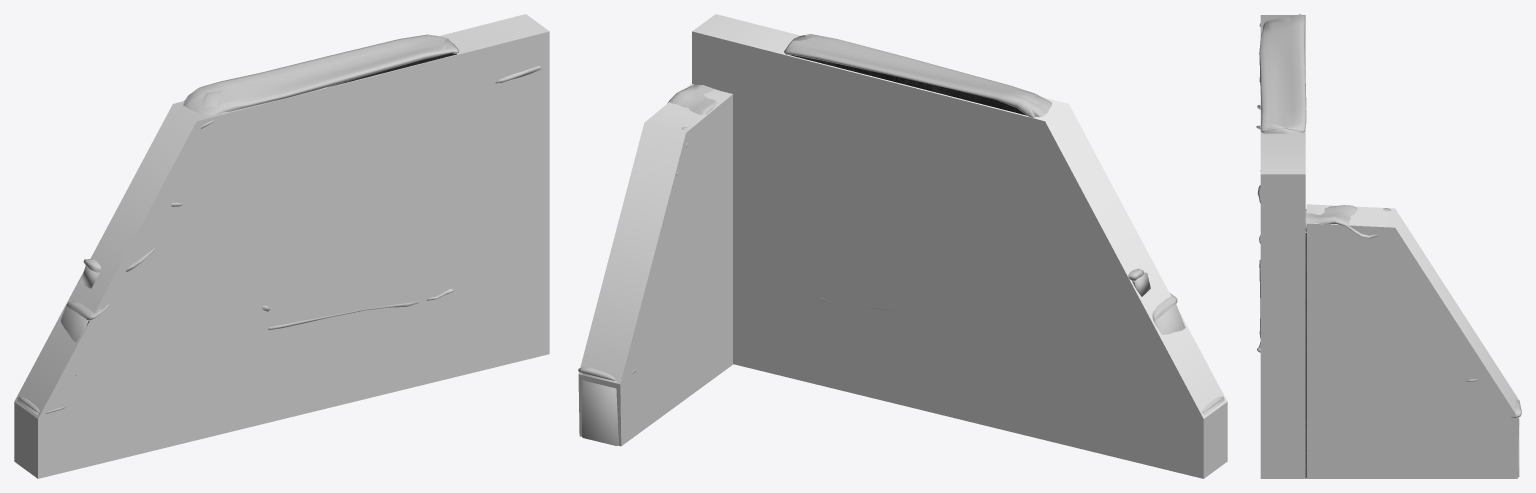
File: Wall-L-Window.fbx
3 renders of one model, left to right at view 1: azimuth 30°, elevation 25°; view 2: azimuth 150°, elevation 25°; view 3: azimuth 270°, elevation 25°, orthographic. The views are drawn at different scales.
Visible parts, largest first — view 1: wall-L-window_col, snow, wall-L-window; view 2: wall-L-window_col, snow, wall-L-window; view 3: wall-L-window_col, snow, wall-L-window.
Boxes of the visible parts, x1=… form: wall-L-window_col: x1=14, y1=14, x2=549, y2=478; snow: x1=18, y1=34, x2=542, y2=413; wall-L-window: x1=17, y1=38, x2=457, y2=415; wall-L-window_col: x1=578, y1=14, x2=1227, y2=478; snow: x1=578, y1=34, x2=1223, y2=413; wall-L-window: x1=582, y1=35, x2=1224, y2=445; wall-L-window_col: x1=1260, y1=15, x2=1519, y2=478; snow: x1=1256, y1=14, x2=1521, y2=417; wall-L-window: x1=1261, y1=17, x2=1519, y2=478.
Bounding box in the file's own units: 225 × 138 × 106.
